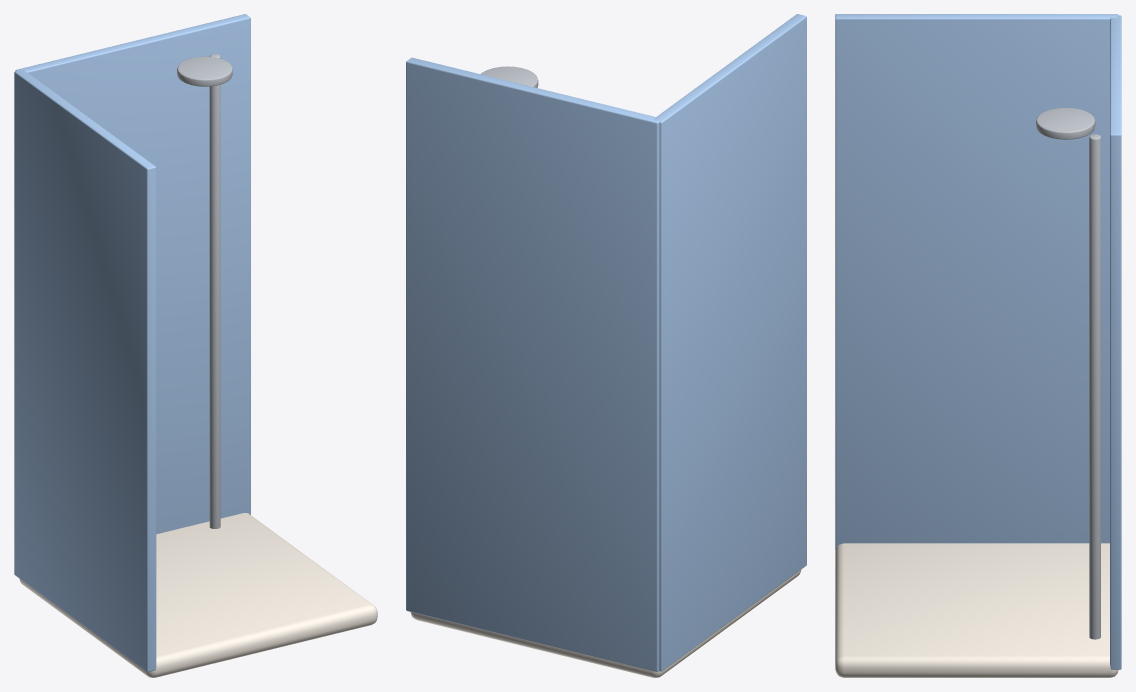
The model's file is shower.glb.
3 views of the same model, side by side, from view 1: azimuth 30°, elevation 25°; view 2: azimuth 150°, elevation 25°; view 3: azimuth 270°, elevation 25° (orthographic). The views are drawn at different scales.
Parts seen in each view (by area): view 1: shower; view 2: shower; view 3: shower.
Boxes of the visible parts, bbox=[...] form: shower: bbox=[14, 14, 377, 677]; shower: bbox=[406, 14, 806, 677]; shower: bbox=[835, 14, 1121, 677].
Size of the model in its own units: 0.97 by 2.04 by 0.97.
